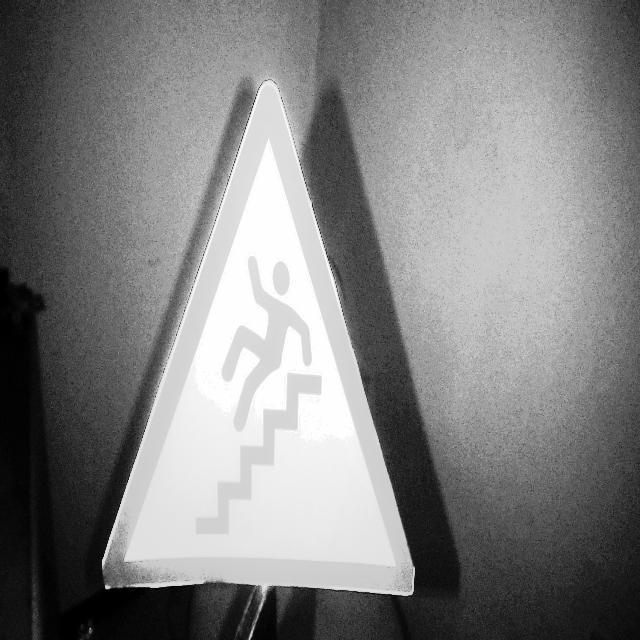Sign: (101, 78, 416, 598)
